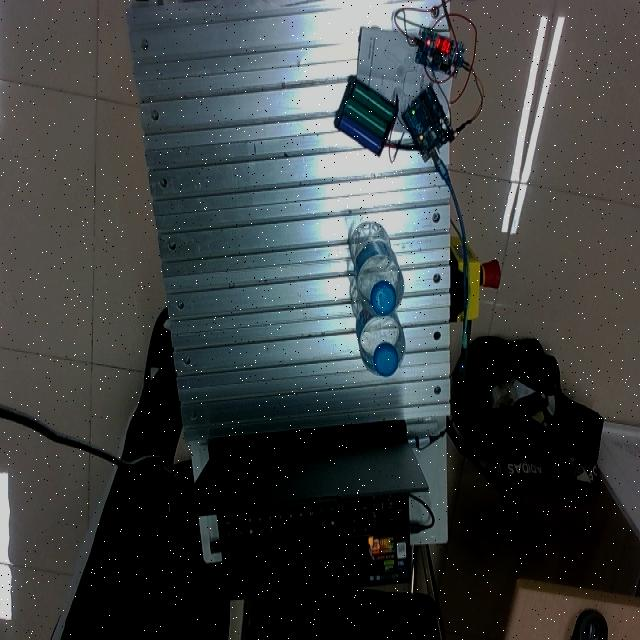lavie: (349, 276, 405, 379), (349, 221, 404, 320)
